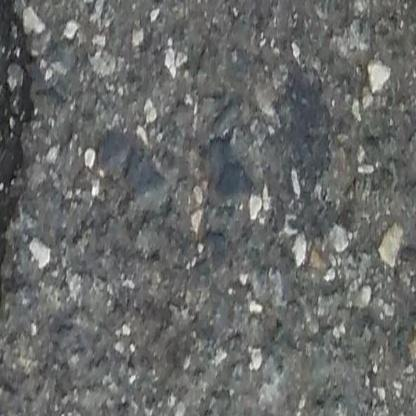Cracks: (0, 0, 34, 403)
